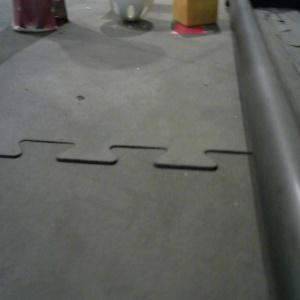middle: (12, 1, 70, 32)
